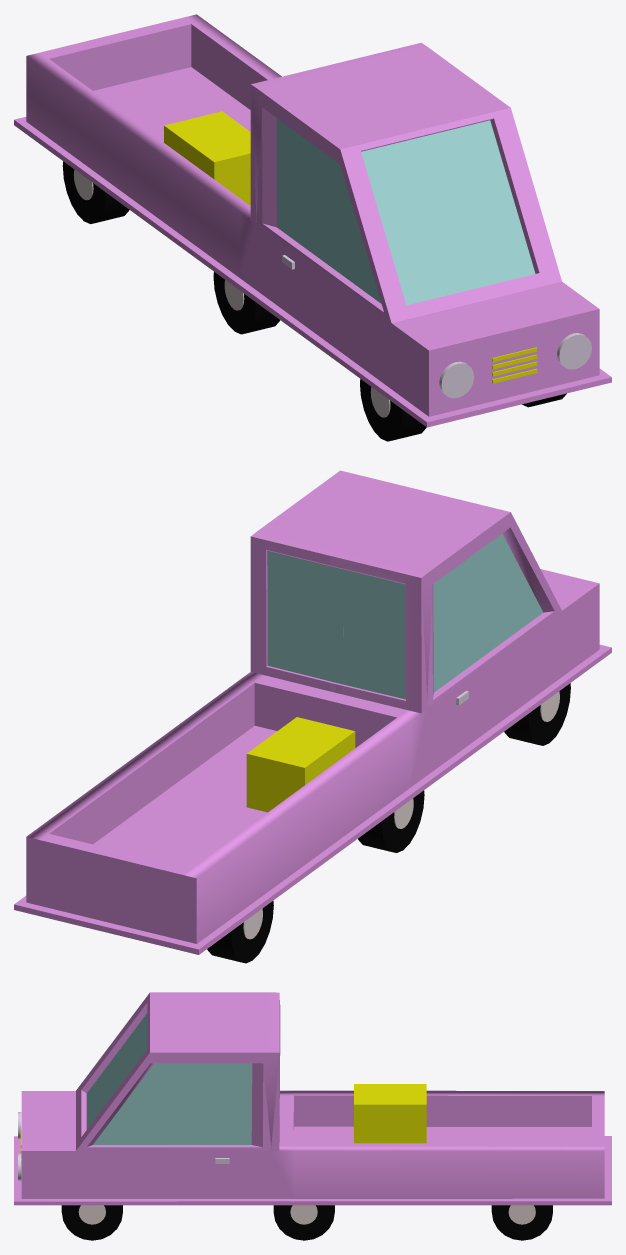
Rendered from car3.fbx.
The picture shows the model from 3 angles, top to bottom: view 1: azimuth 30°, elevation 25°; view 2: azimuth 150°, elevation 25°; view 3: azimuth 270°, elevation 25°; orthographic projection. The views are drawn at different scales.
Visible parts, largest first — view 1: polySurface57; view 2: polySurface57; view 3: polySurface57.
Part boxes in pixels (box(x1,y1,x2,y2)): polySurface57: box(14, 14, 611, 441); polySurface57: box(14, 470, 611, 963); polySurface57: box(14, 992, 611, 1240).
Size of the model in its own units: 4.58 by 6.17 by 17.74.
